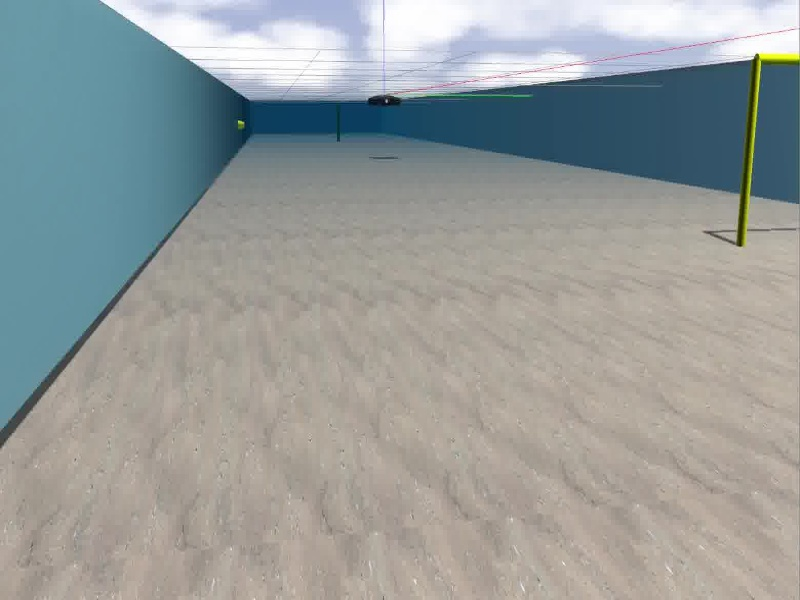gate: (735, 52, 800, 248)
